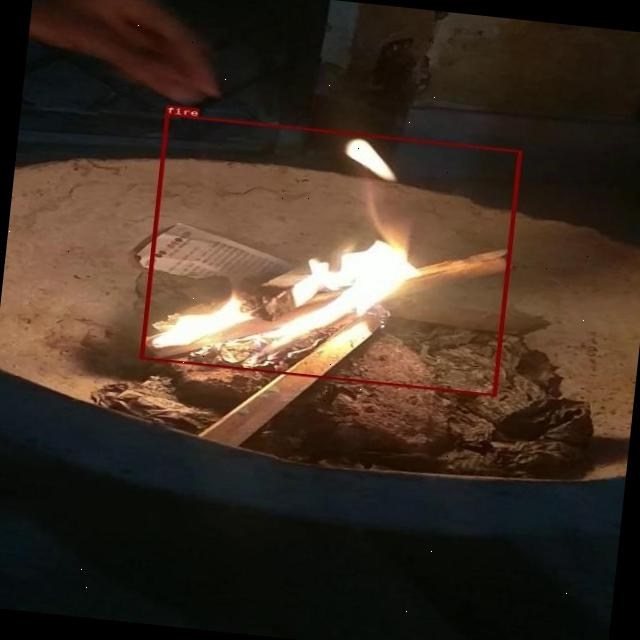fire: (139, 112, 521, 396)
